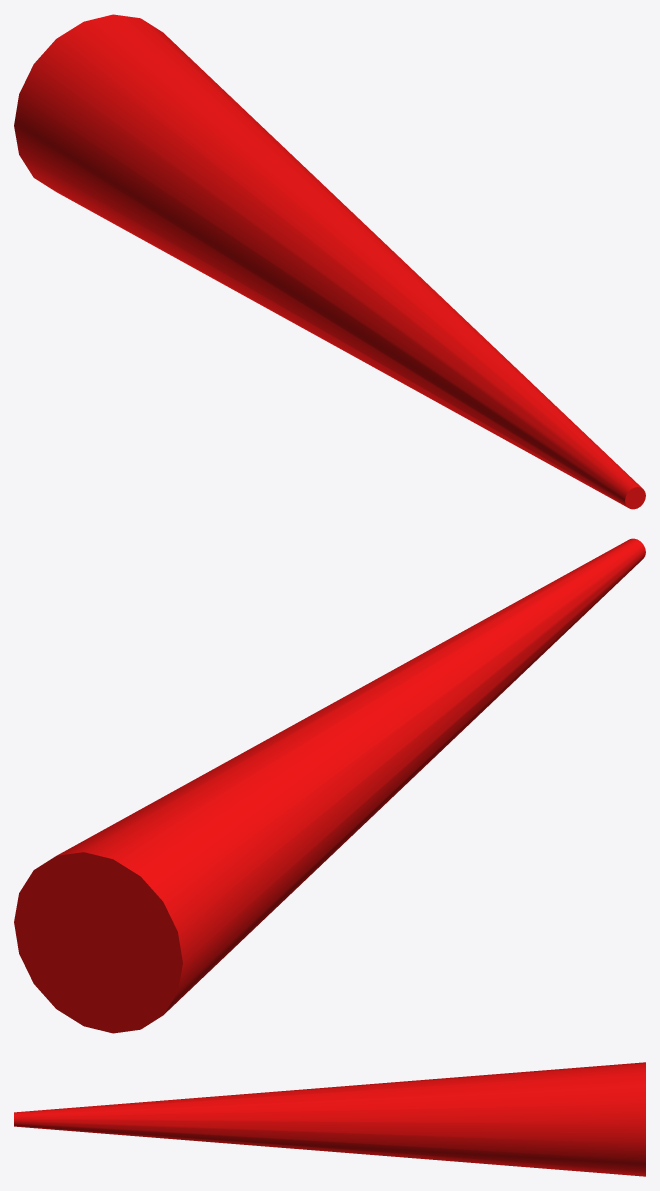
The model's file is Mapa01_TiroB.FBX.
3 views of the same model, one above another, from view 1: azimuth 30°, elevation 25°; view 2: azimuth 150°, elevation 25°; view 3: azimuth 270°, elevation 25° (orthographic). The views are drawn at different scales.
Parts seen in each view (by area): view 1: TiroB_Mapa01; view 2: TiroB_Mapa01; view 3: TiroB_Mapa01.
Boxes of the visible parts, bbox=[...] form: TiroB_Mapa01: bbox=[14, 14, 645, 509]; TiroB_Mapa01: bbox=[14, 538, 645, 1033]; TiroB_Mapa01: bbox=[14, 1062, 645, 1176].
Bounding box in the file's own units: 14.99 × 14.76 × 82.48.
